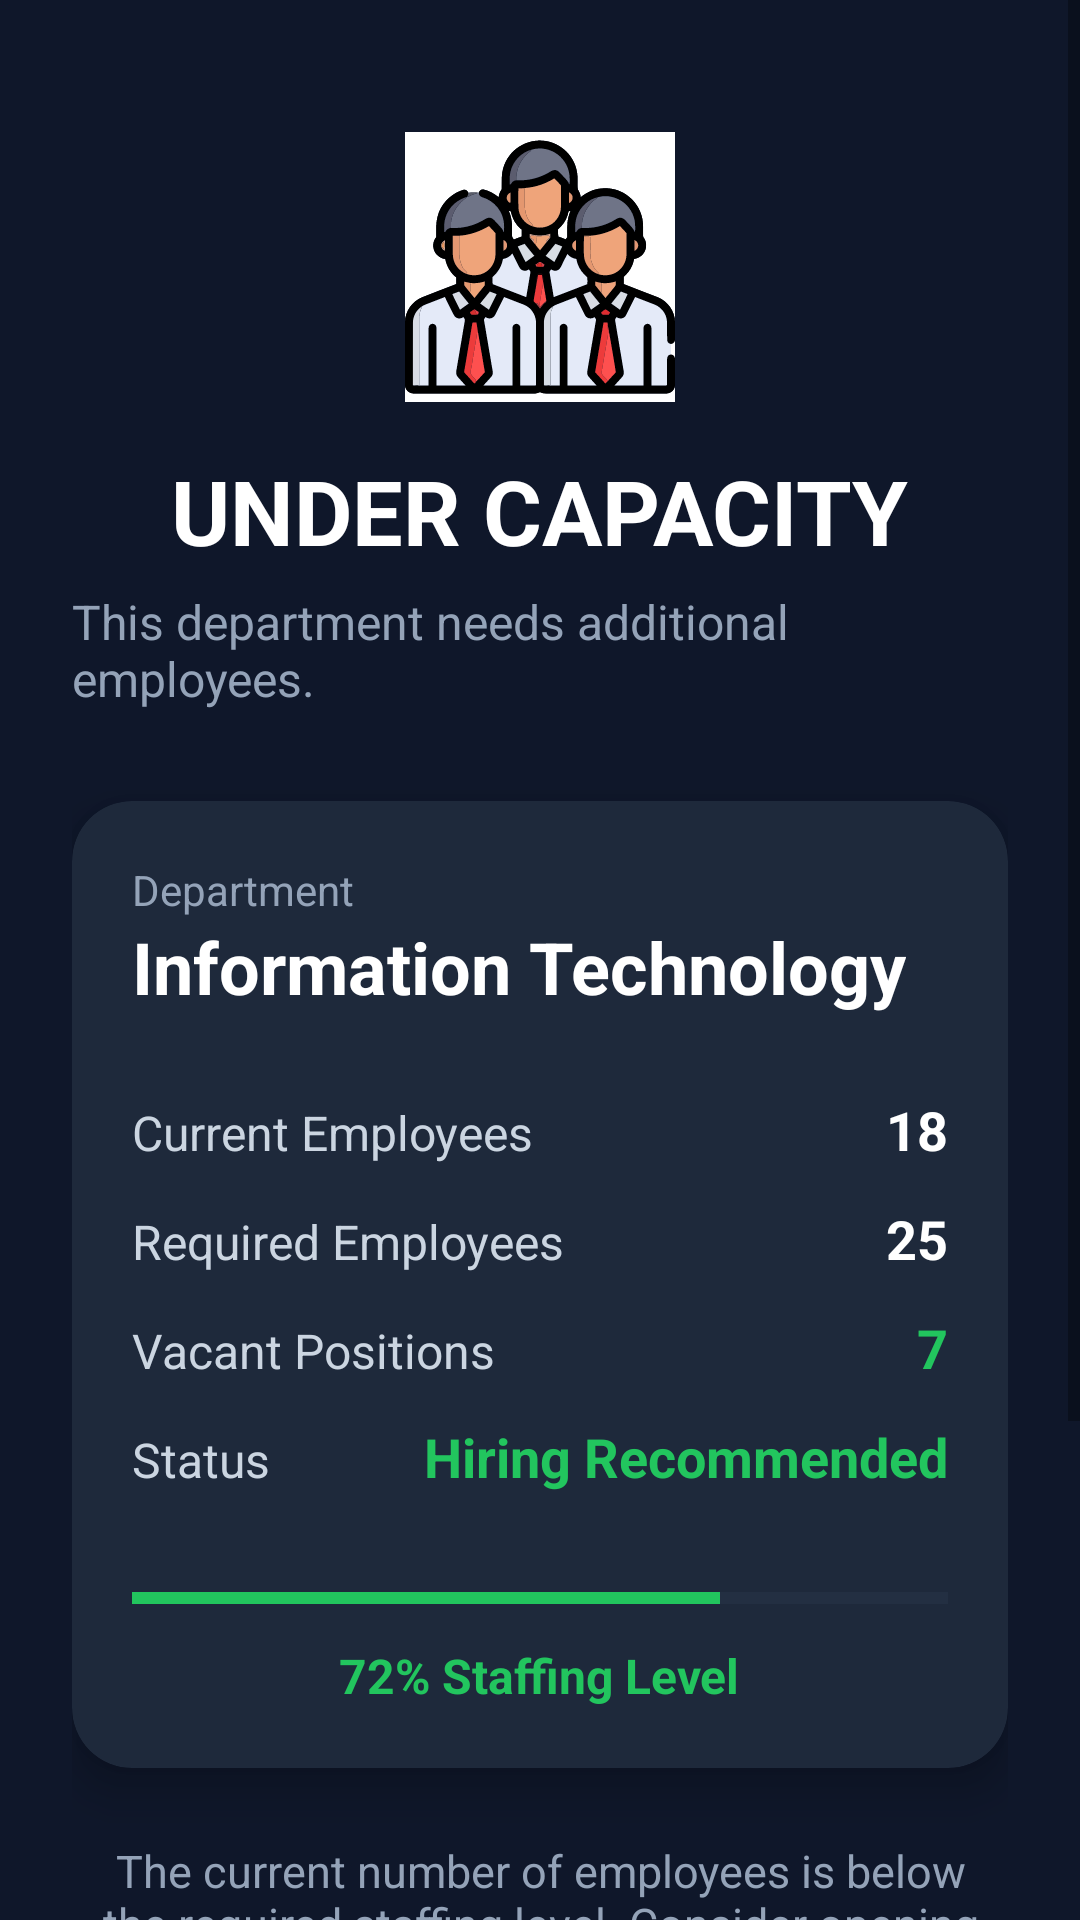

Screen size 1080*1920. Icon name, then its box in pixels as (x1, y1, x2, y2):
company employees: (405, 132, 675, 402)
